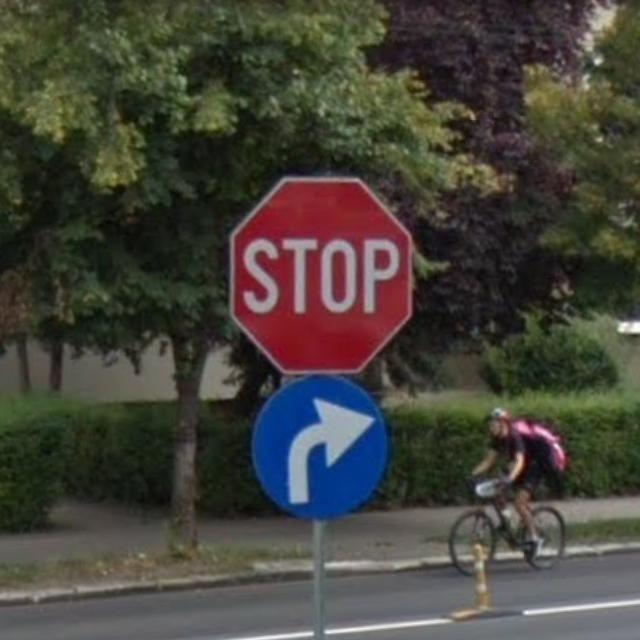prio_stop: (229, 177, 411, 373)
